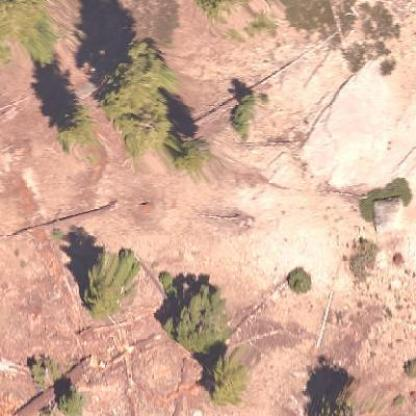tree-top: (87, 33, 176, 153), (66, 239, 144, 319), (155, 274, 228, 356), (46, 99, 96, 151), (202, 352, 251, 404), (169, 132, 209, 176)
